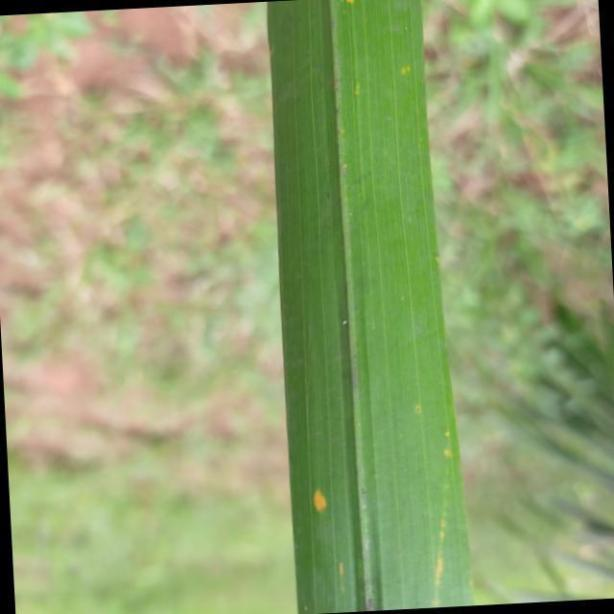Kalium: (271, 0, 474, 614)
